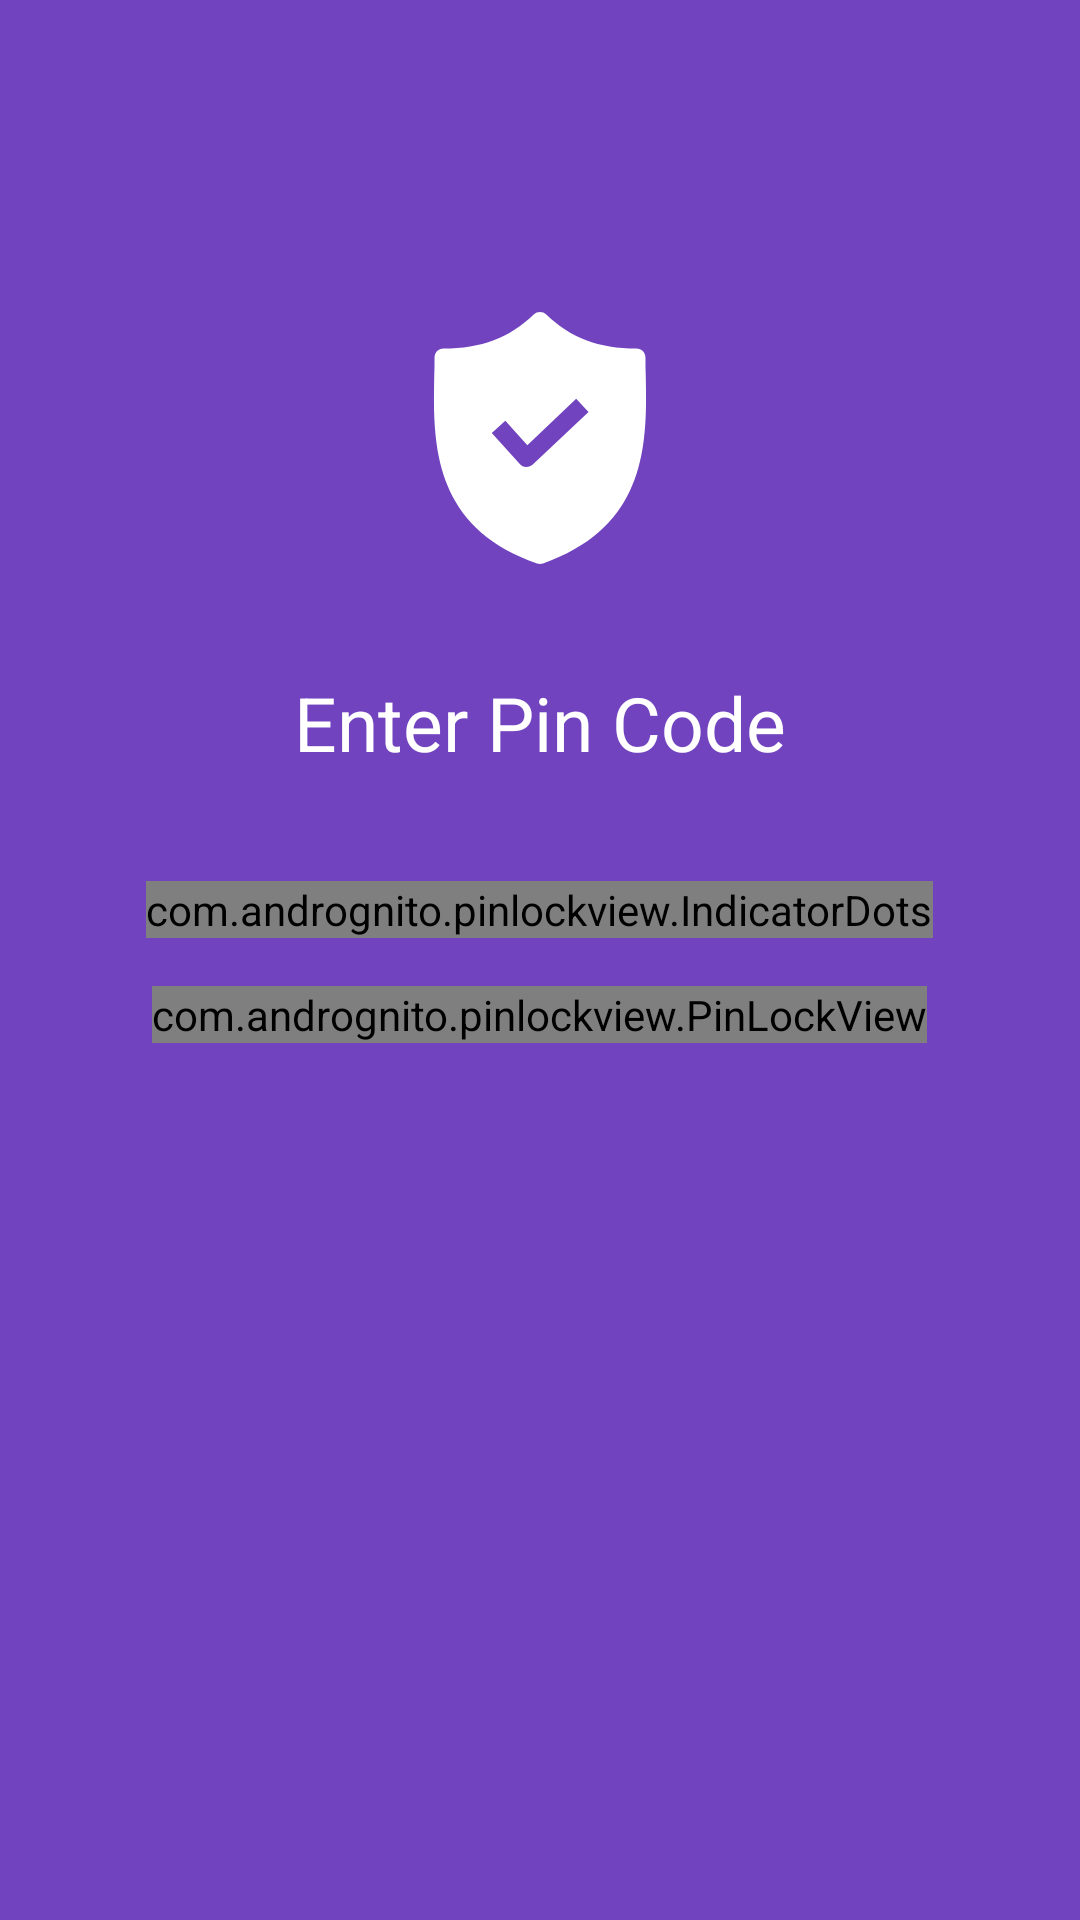

Point at icon controls on the screen. Image size 1080 × 1920, points as [x,y].
shield: [540,438]
